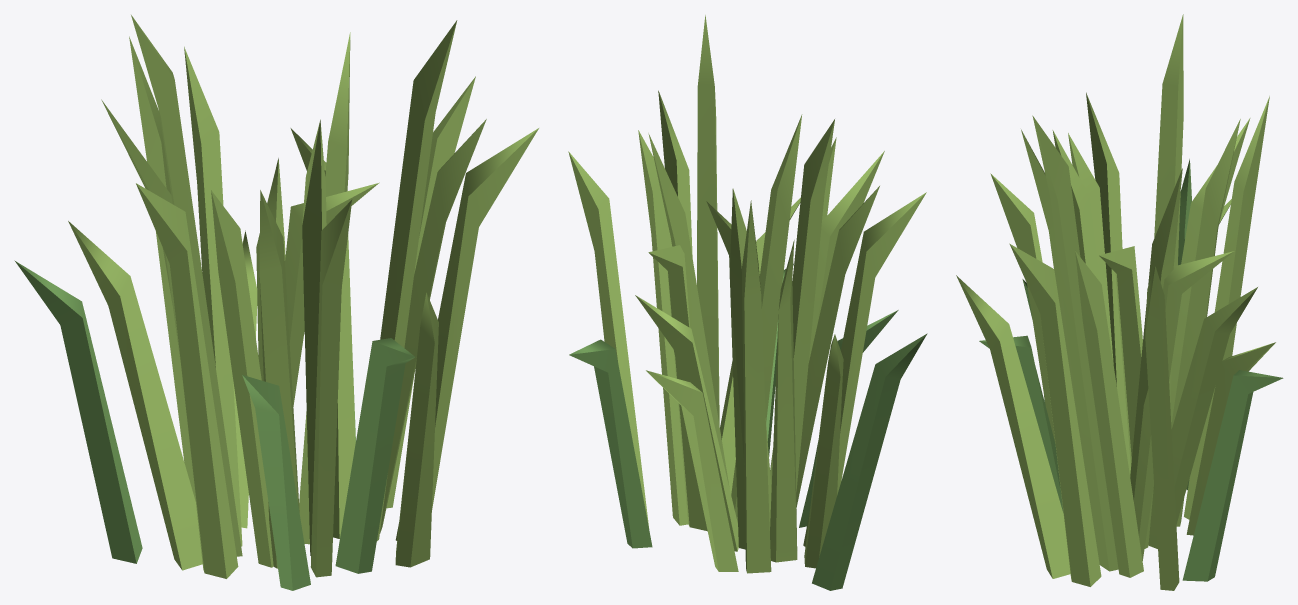
The model's file is SM_Env_RicePlant_02.fbx.
3 renders of one model, left to right at view 1: azimuth 30°, elevation 25°; view 2: azimuth 150°, elevation 25°; view 3: azimuth 270°, elevation 25°, orthographic. The views are drawn at different scales.
Visible parts, largest first — view 1: SM_Env_RicePlant_02; view 2: SM_Env_RicePlant_02; view 3: SM_Env_RicePlant_02.
Part boxes in pixels (x1,y1,x2,y2): SM_Env_RicePlant_02: (14,15,538,590); SM_Env_RicePlant_02: (568,15,927,590); SM_Env_RicePlant_02: (956,14,1283,590).
Bounding box in the file's own units: 0.0124 × 0.0146 × 0.00921.
Materials: 1 (1 with a texture image).
